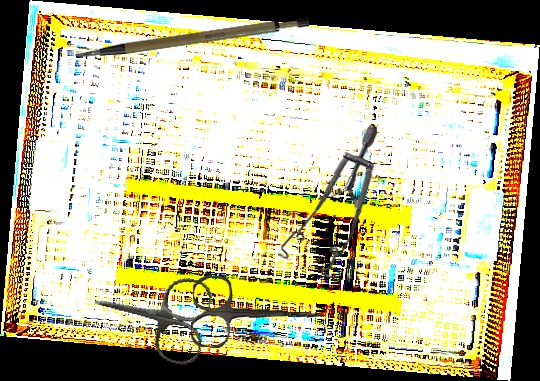Iris Scissors: (85, 258, 215, 369), (190, 274, 328, 354)
Scalpel Handle: (75, 14, 309, 59)
Speculum: (275, 125, 380, 281)
